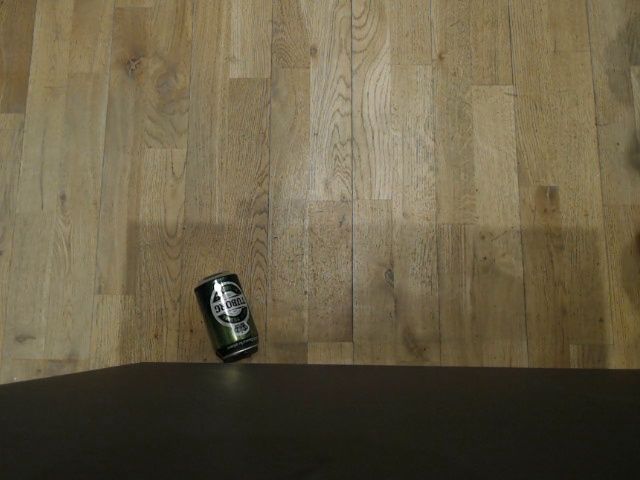beer: (196, 270, 258, 360)
